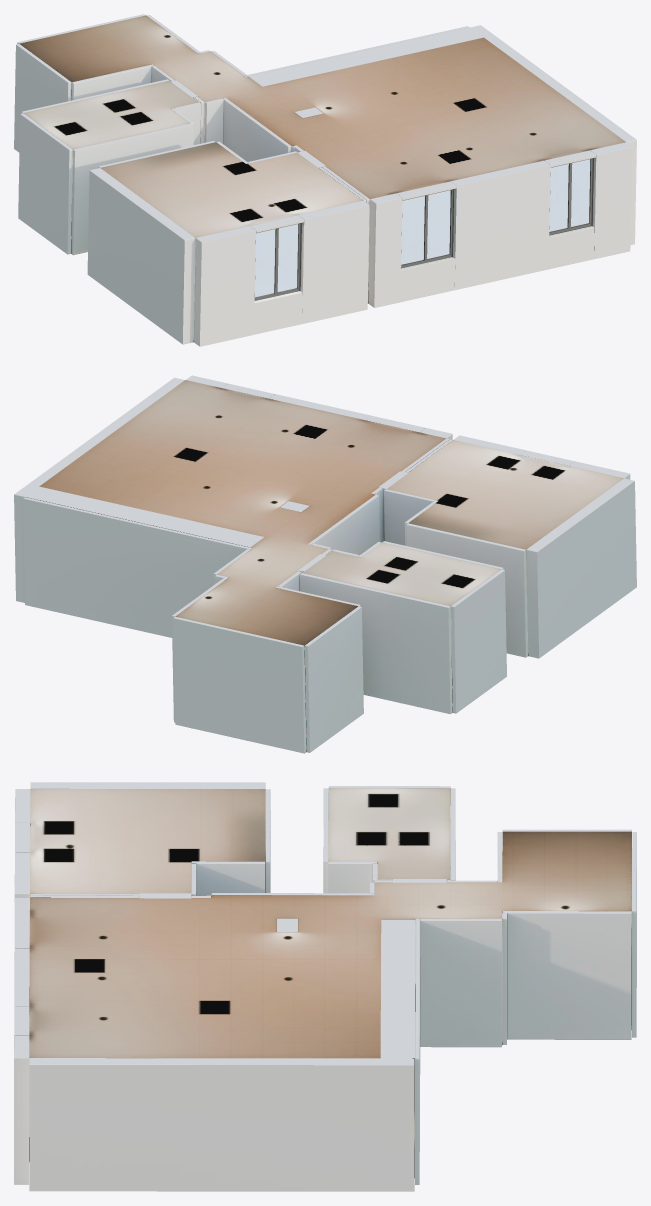
Rendered from flat_baked_table2_captury.glb.
The picture shows the model from 3 angles, top to bottom: view 1: azimuth 30°, elevation 25°; view 2: azimuth 150°, elevation 25°; view 3: azimuth 270°, elevation 25°; orthographic projection. The views are drawn at different scales.
Parts seen in each view (by area): view 1: zapec_telo_0, zapec_stropy_3, zapec_zdi_1, sklo_okno_67, sklo_okno_111, sklo_okno_74; view 2: zapec_telo_0, zapec_stropy_3, zapec_zdi_1; view 3: zapec_stropy_3, zapec_telo_0, zapec_zdi_1.
Boxes of the visible parts, x1=… form: zapec_telo_0: x1=14, y1=14, x2=636, y2=346; zapec_stropy_3: x1=19, y1=15, x2=625, y2=237; zapec_zdi_1: x1=71, y1=27, x2=593, y2=341; sklo_okno_67: x1=401, y1=190, x2=450, y2=264; sklo_okno_111: x1=255, y1=224, x2=298, y2=297; sklo_okno_74: x1=549, y1=159, x2=590, y2=231; zapec_telo_0: x1=14, y1=375, x2=636, y2=753; zapec_stropy_3: x1=39, y1=380, x2=623, y2=645; zapec_zdi_1: x1=25, y1=471, x2=528, y2=751; zapec_stropy_3: x1=29, y1=788, x2=631, y2=1058; zapec_telo_0: x1=14, y1=782, x2=636, y2=1191; zapec_zdi_1: x1=30, y1=789, x2=631, y2=1177.
Size of the model in its own units: 12.36 by 2.95 by 11.94.
10 materials, 8 textured.
